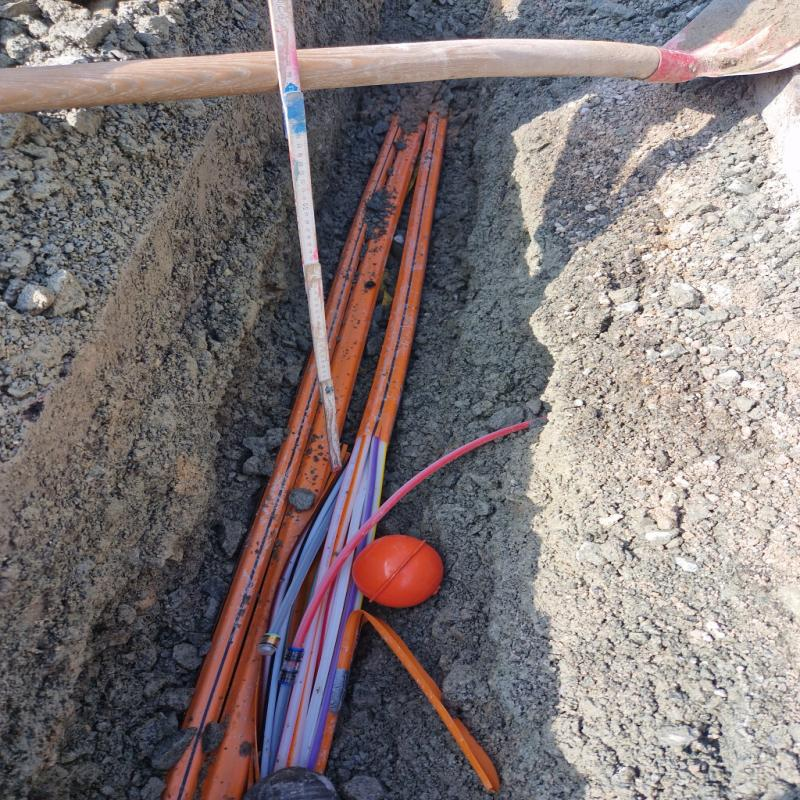Kugelmarker: (349, 534, 442, 606)
Orang-Speednetrohrchen: (176, 117, 424, 800), (264, 113, 447, 775)
